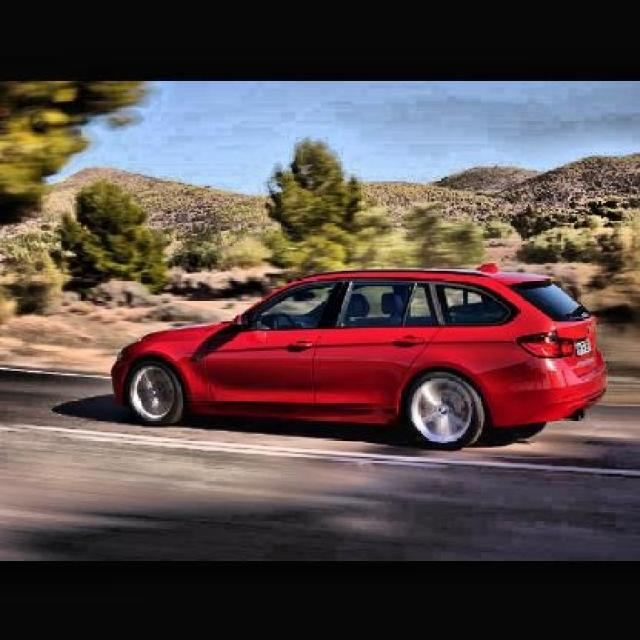red: (110, 261, 613, 439)
